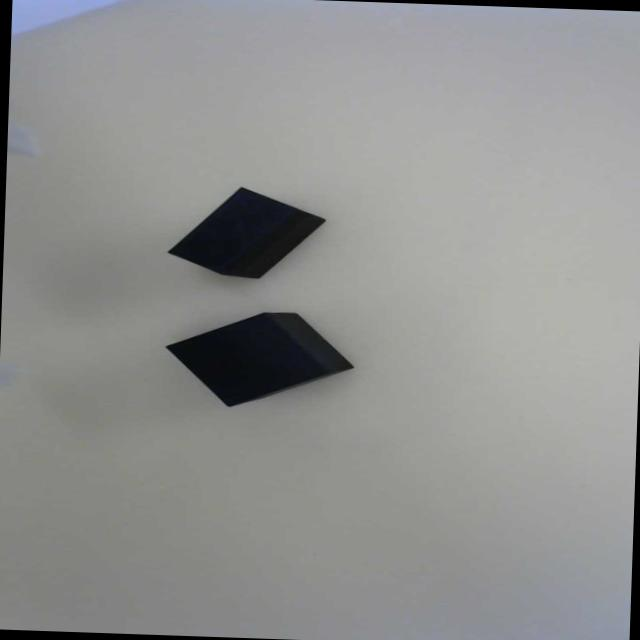rectangle: (164, 187, 299, 275)
square: (164, 311, 327, 407)
